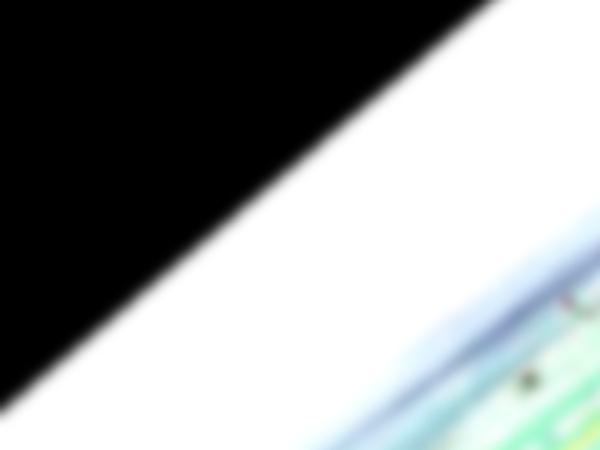Apron: (528, 387, 600, 450)
